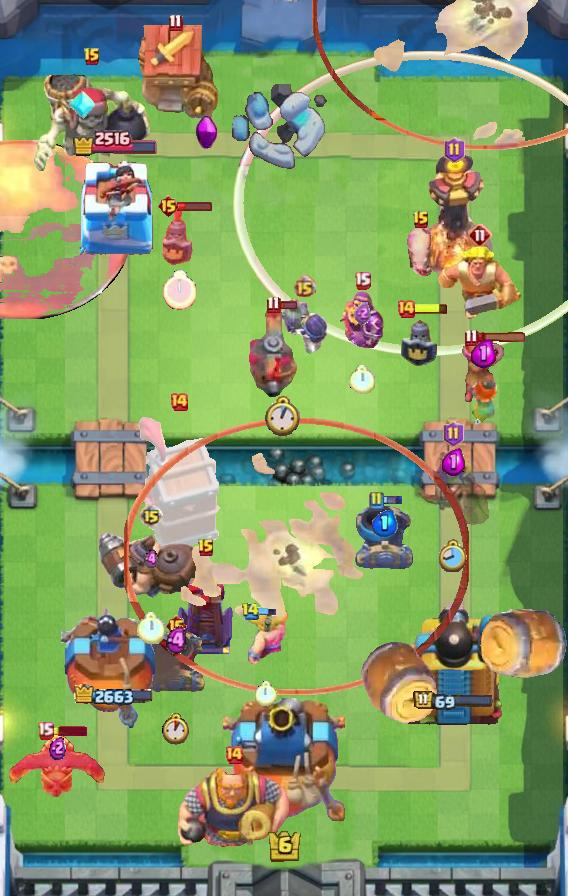barbarian-hut: (412, 449, 494, 525)
bomb-tower: (462, 334, 504, 404)
dark-prince: (249, 307, 315, 397)
dart-goblin: (137, 415, 221, 553)
dirt: (358, 639, 440, 725), (478, 607, 568, 681)
electro-dragon: (415, 152, 493, 278)
electro-giant: (31, 59, 153, 175)
electro-spirit: (472, 339, 497, 368), (372, 510, 398, 537), (443, 448, 466, 476), (165, 626, 186, 655), (50, 736, 67, 760), (353, 302, 371, 324), (144, 549, 158, 571)
elixir: (264, 396, 300, 437), (163, 270, 197, 310), (440, 539, 469, 574), (161, 713, 191, 745), (137, 612, 165, 644), (349, 365, 375, 394), (255, 682, 277, 707)
emote: (476, 332, 528, 343), (413, 301, 449, 315), (177, 201, 213, 212), (51, 726, 87, 736), (381, 495, 403, 506), (258, 607, 278, 618), (278, 300, 297, 310)
firecracker-evolution: (340, 291, 384, 350)
giant: (404, 223, 438, 279)
giant-skeleton: (176, 763, 292, 853)
goblin-ball: (277, 293, 331, 355)
goblin-giant: (244, 608, 288, 664)
goblin-hut: (436, 246, 524, 322)
hog-rider: (464, 376, 502, 428)
ice-spirit-evolution-symbol: (175, 560, 237, 656)
king-tower: (223, 698, 345, 826)
mother-witch: (7, 727, 107, 799)
musketeer: (145, 628, 207, 696), (355, 505, 415, 569)
pad_2: (68, 89, 96, 121)
phoenix-egg: (0, 140, 131, 319)
princess: (158, 206, 202, 266), (400, 314, 444, 370)
queen-tower: (61, 603, 167, 731), (68, 158, 160, 256)
royal-ghost: (124, 418, 469, 695), (312, 0, 568, 150)
selected: (70, 127, 157, 156), (73, 684, 154, 708), (414, 690, 495, 712)
skeleton-king-skill: (194, 115, 220, 149)
sparky: (132, 24, 218, 122)
text: (468, 223, 492, 247), (139, 504, 163, 528), (157, 194, 180, 218), (164, 614, 187, 638), (444, 137, 465, 163), (444, 421, 465, 447), (292, 274, 315, 297), (396, 299, 416, 319), (169, 392, 189, 412), (224, 745, 244, 765), (241, 603, 260, 622), (83, 47, 101, 67), (412, 210, 430, 230), (197, 538, 215, 558), (353, 271, 371, 289), (37, 721, 55, 739), (368, 491, 384, 511), (266, 295, 281, 314), (169, 13, 183, 32), (465, 329, 479, 347)
tower-bar: (397, 595, 509, 731)
wizard: (95, 530, 207, 600)
